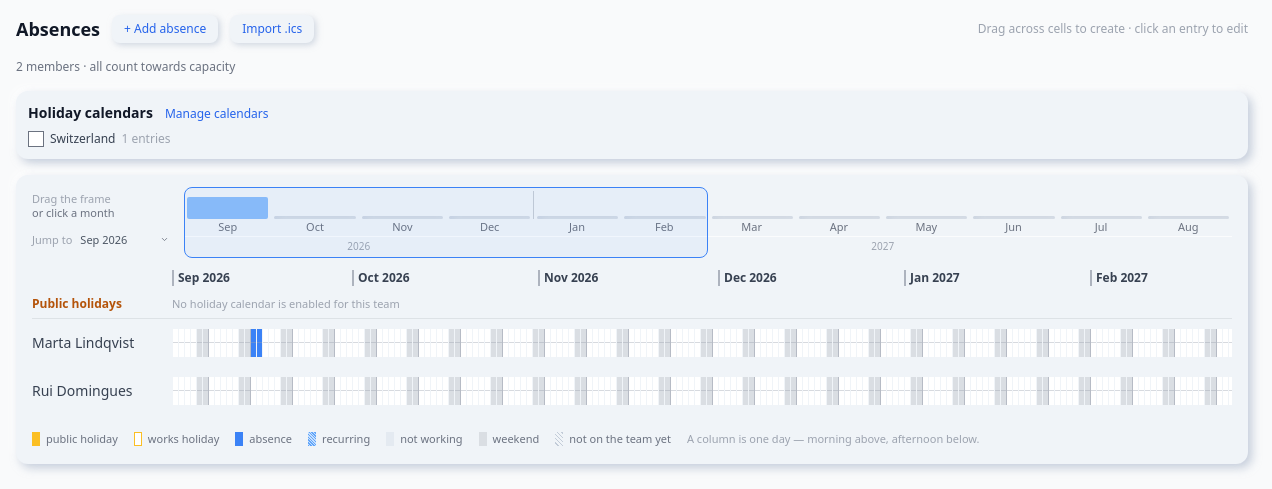
Test case: AbsencesView › moves the calendar from the jump control under the strip’s label
Expected: the table named "absences by member" is shown, [32,319,1232,415]
Select "Mar 2027" in the dropdown named "Jump to month" at (124, 240), box [76,226,172,254]
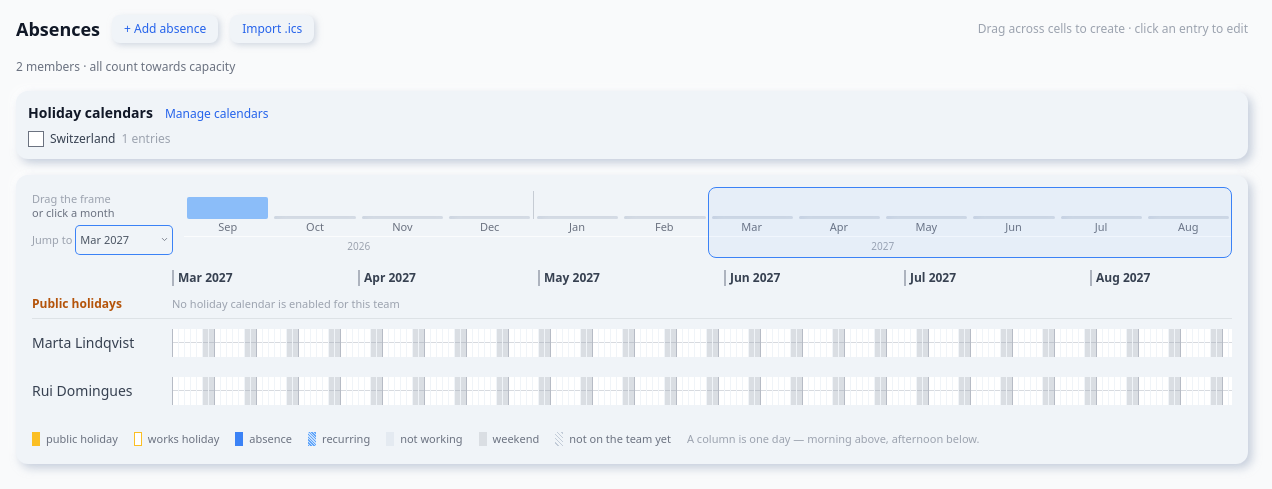
Expected: the text "Mar 2027" is shown, [178,270,233,286]
Expected: the text "Aug 2027" is shown, [1096,270,1150,286]
